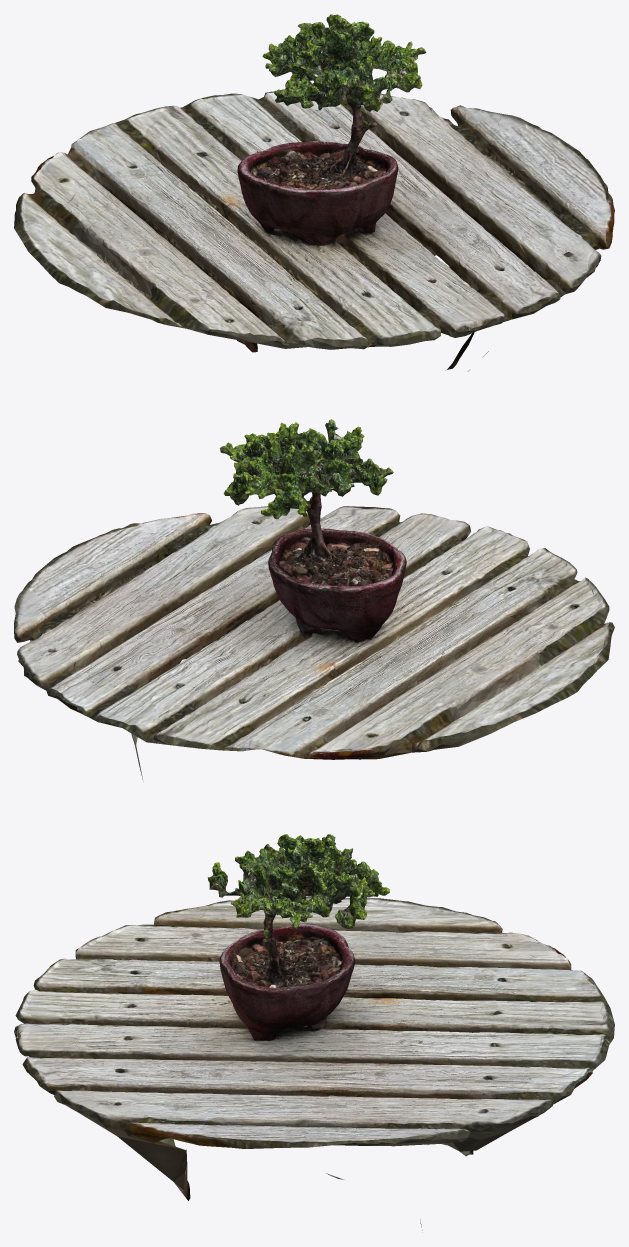
The model's file is juniper-bonsai.glb.
3 views of the same model, one above another, from view 1: azimuth 30°, elevation 25°; view 2: azimuth 150°, elevation 25°; view 3: azimuth 270°, elevation 25° (orthographic).
Bounding box in the file's own units: 0.4881 × 0.3169 × 0.4895.
1 material, 1 textured.
